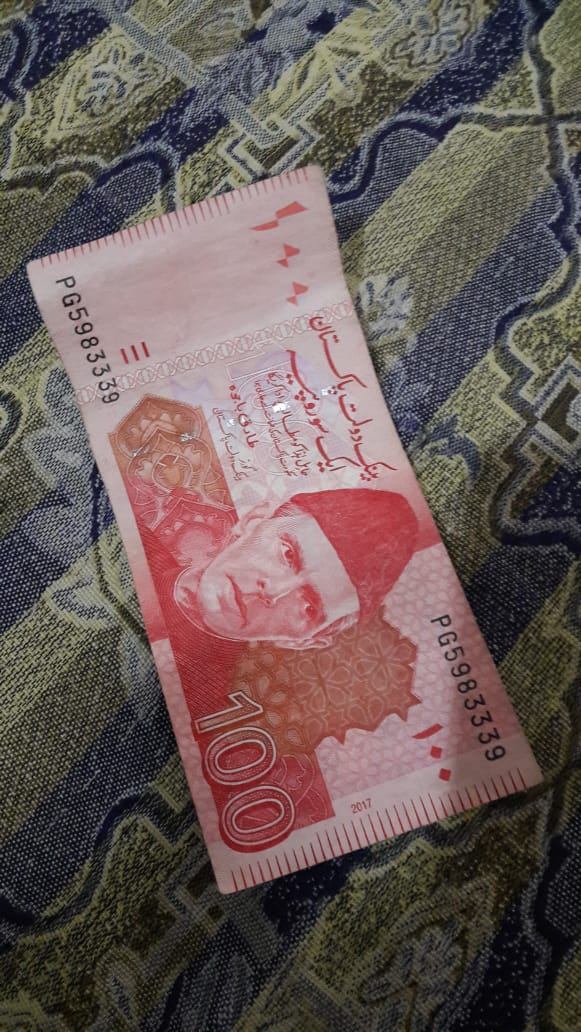100 rupee: (23, 169, 552, 929)
